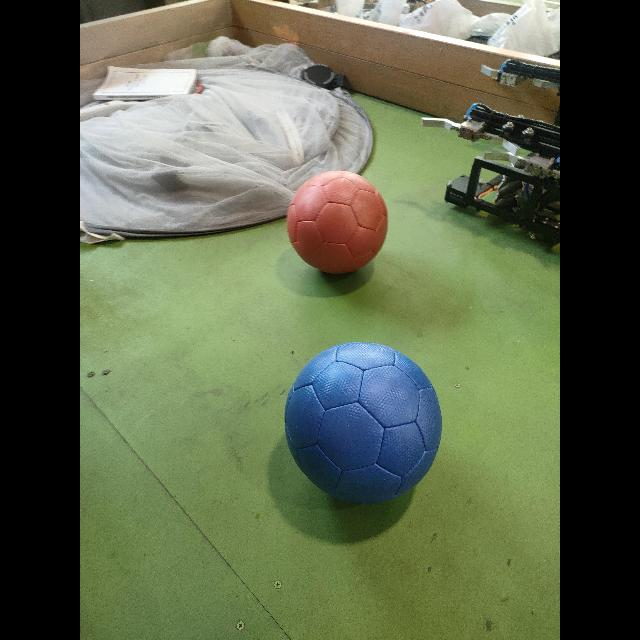B: (284, 343, 444, 508)
R: (286, 171, 389, 279)
